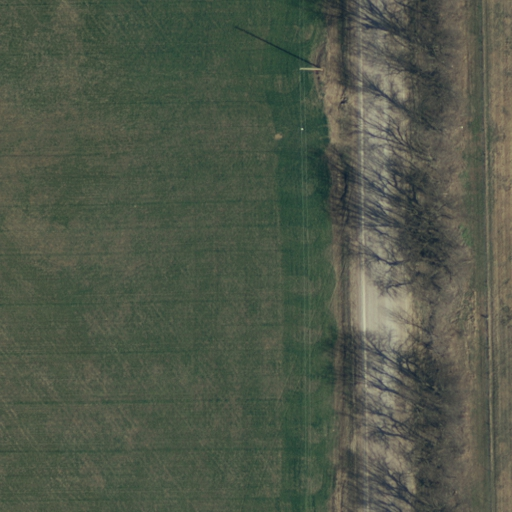DT: (294, 55, 332, 84)
